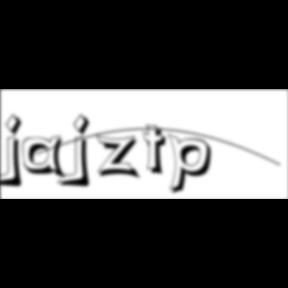a: (23, 135, 71, 182)
j: (2, 113, 30, 191), (70, 113, 98, 191)
p: (168, 132, 218, 198)
t: (143, 124, 174, 179)
z: (96, 134, 144, 182)
